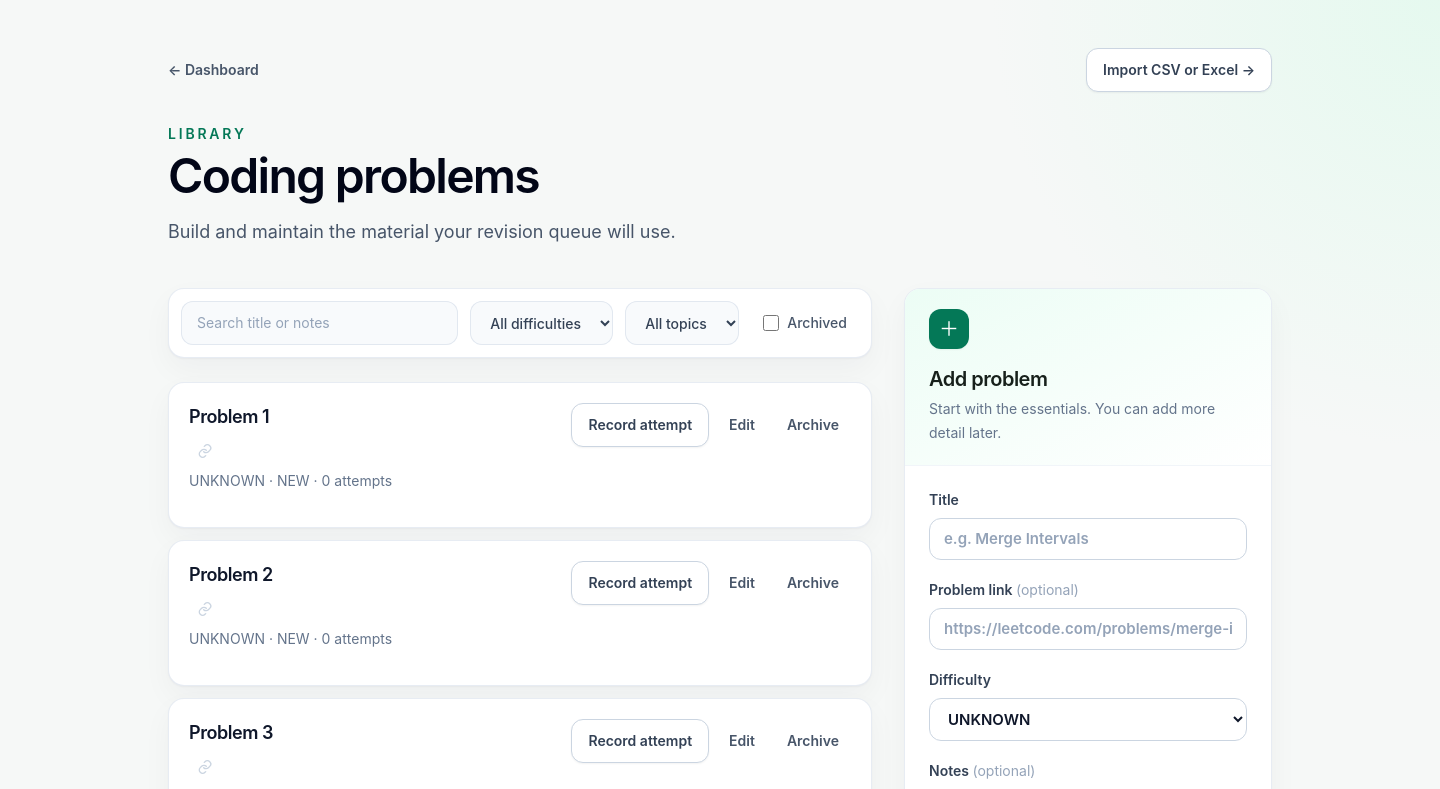
ProblemsPage › paginates the complete problem list in the browser
Expected: the text "Problem 26" is not shown
Click the 1st button "Record attempt" at {"x": 640, "y": 425}, box [571,403,709,447]
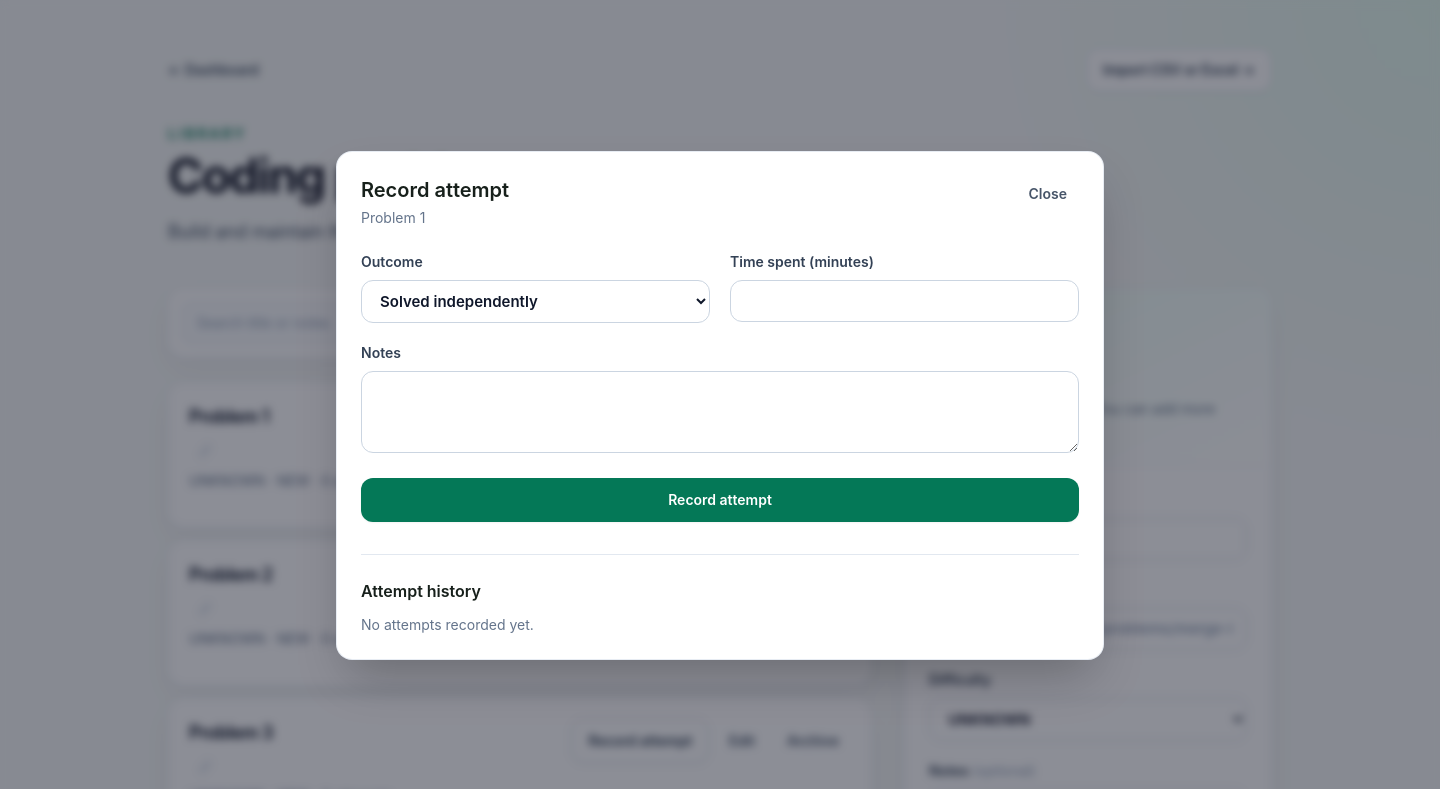
Expected: the dialog "Record attempt" is shown, [336,150,1104,660]
Click the button "Close" at {"x": 1048, "y": 194}, box [1016,176,1079,212]
(page scrolled)
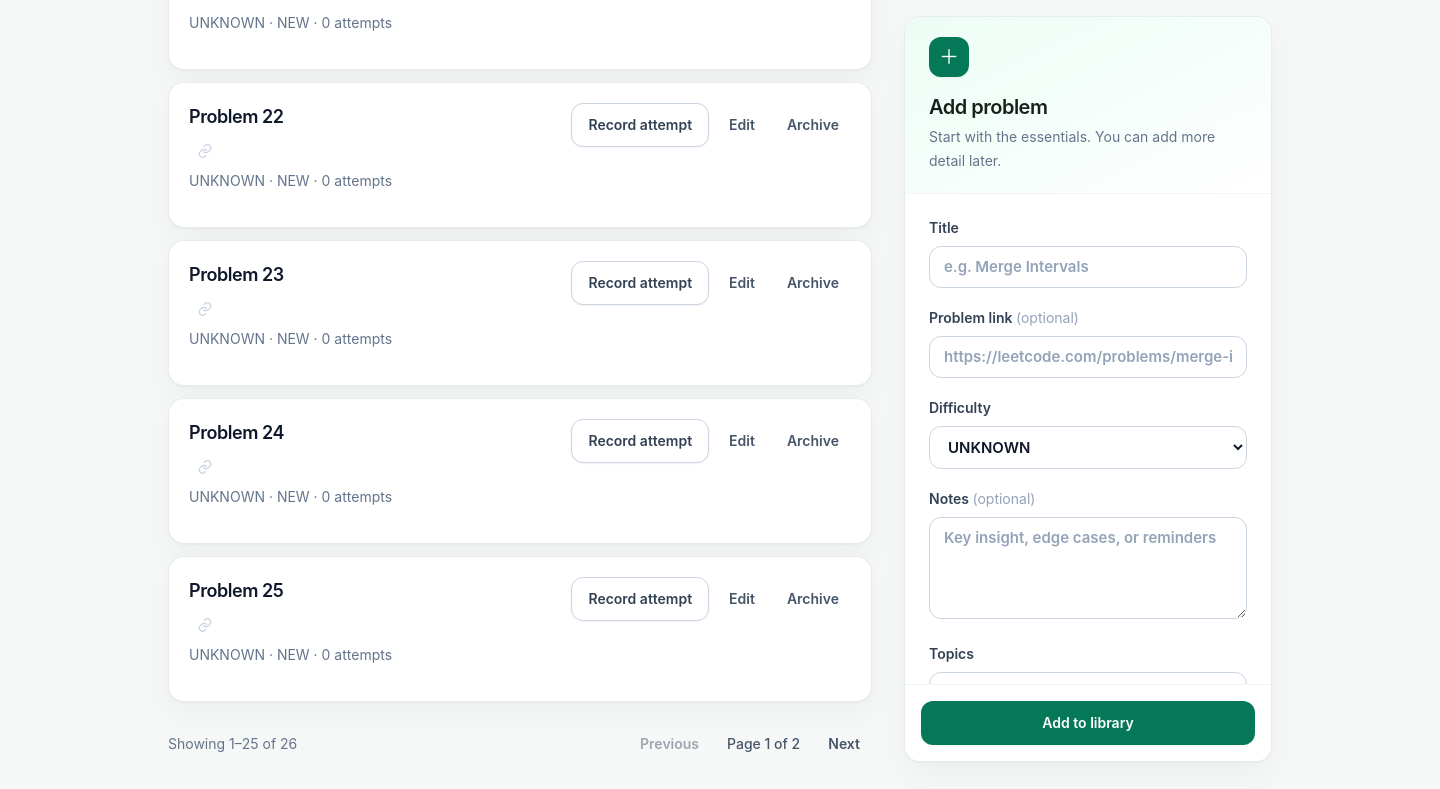
Click the button "Next" at {"x": 844, "y": 744}, box [816,726,872,762]
(page scrolled)
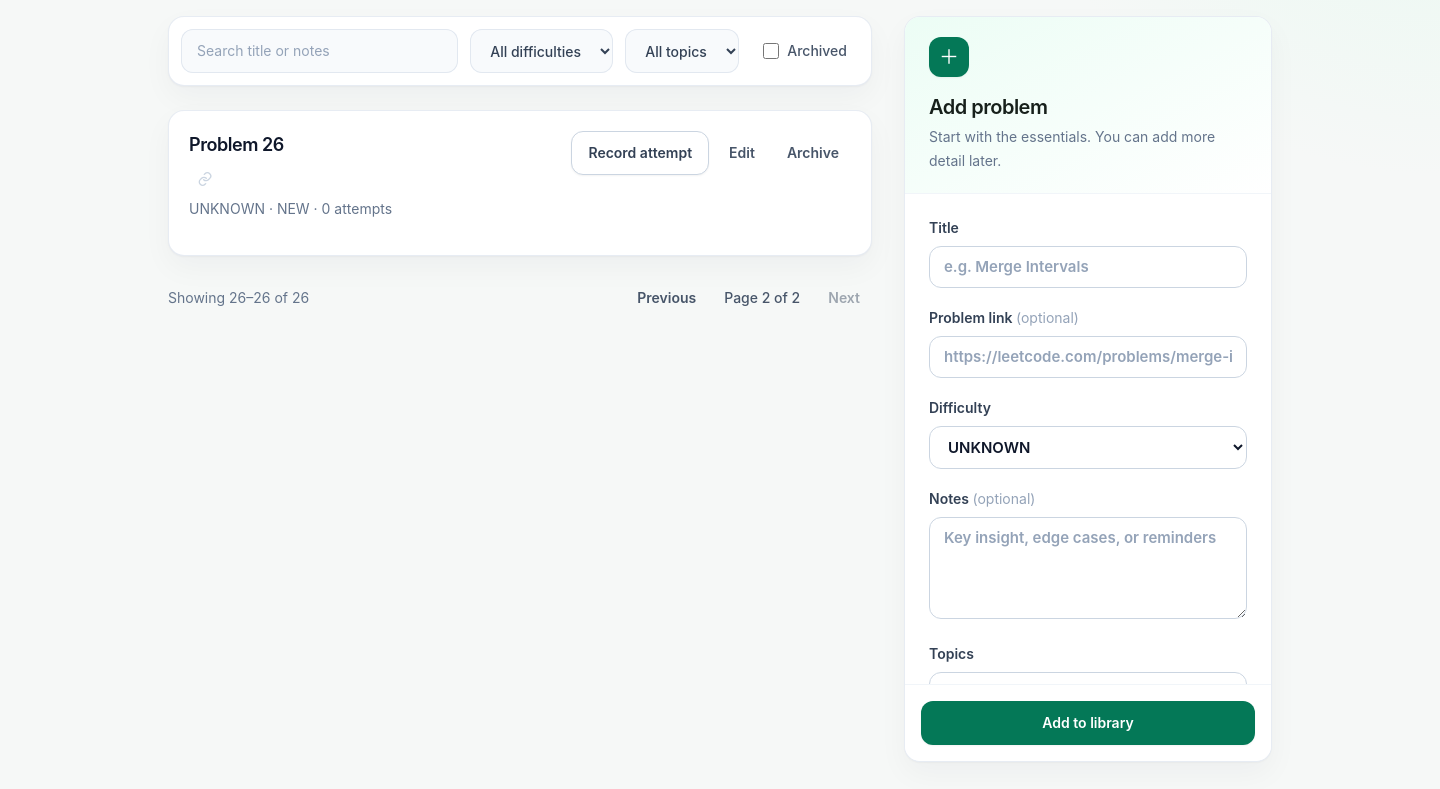
Expected: the text "Showing 26–26 of 26" is shown, [168,288,309,308]
Expected: the heading "Problem 26" is shown, [189,134,284,155]
